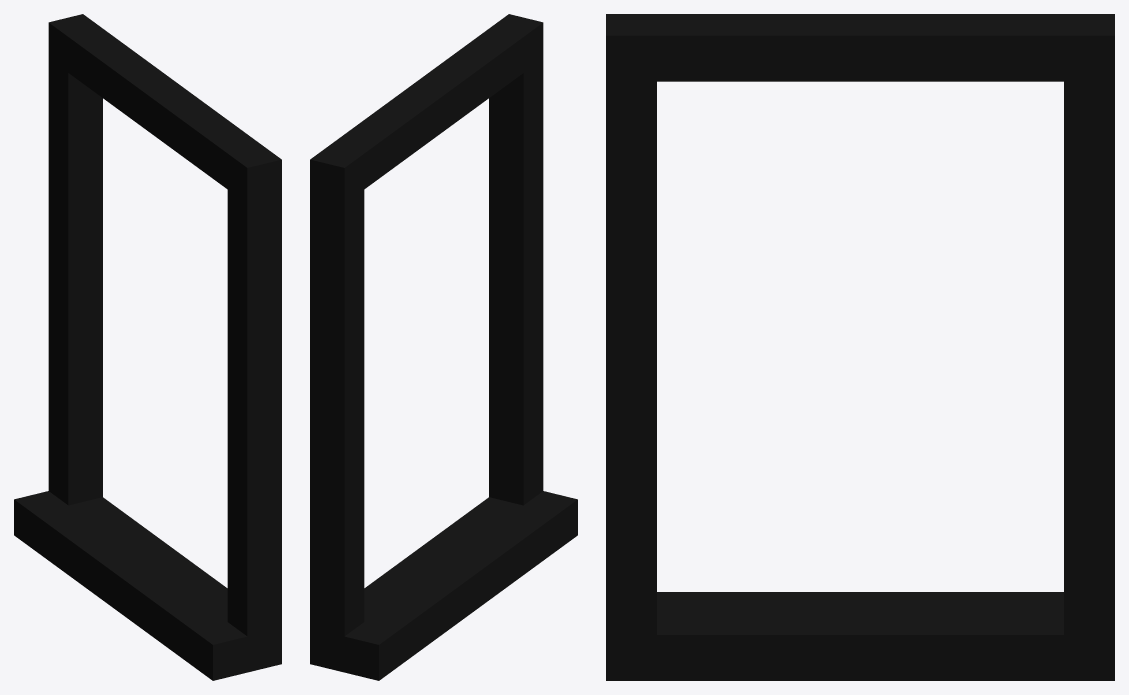
The model's file is window.obj.
The picture shows the model from 3 angles, left to right: view 1: azimuth 30°, elevation 25°; view 2: azimuth 150°, elevation 25°; view 3: azimuth 270°, elevation 25°; orthographic projection. The views are drawn at different scales.
Size of the model in its own units: 0.2 by 1.4 by 1.
1 material, 1 textured.
